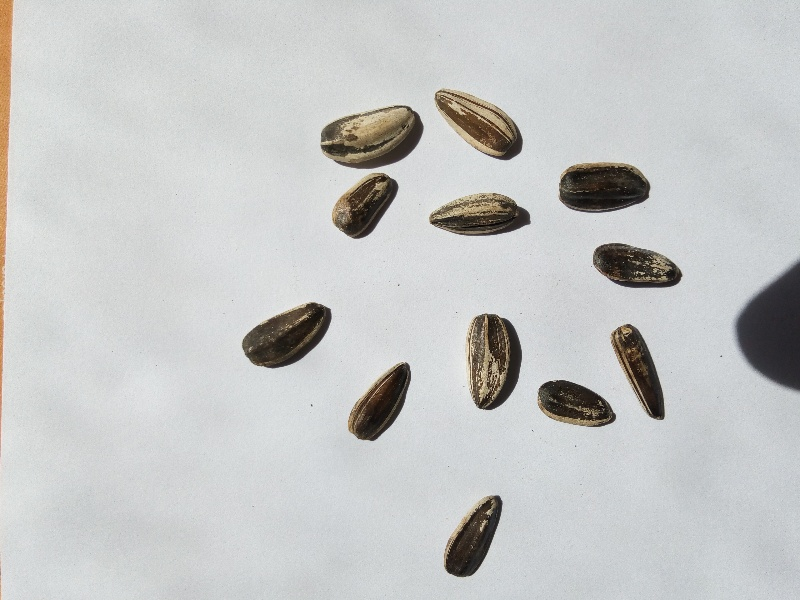girasol: (231, 295, 341, 379), (431, 79, 531, 163), (423, 179, 539, 251), (311, 102, 427, 170), (345, 353, 420, 454), (431, 490, 507, 586), (461, 305, 524, 420), (529, 369, 620, 441), (553, 156, 654, 219), (325, 168, 405, 243), (582, 238, 684, 291)
